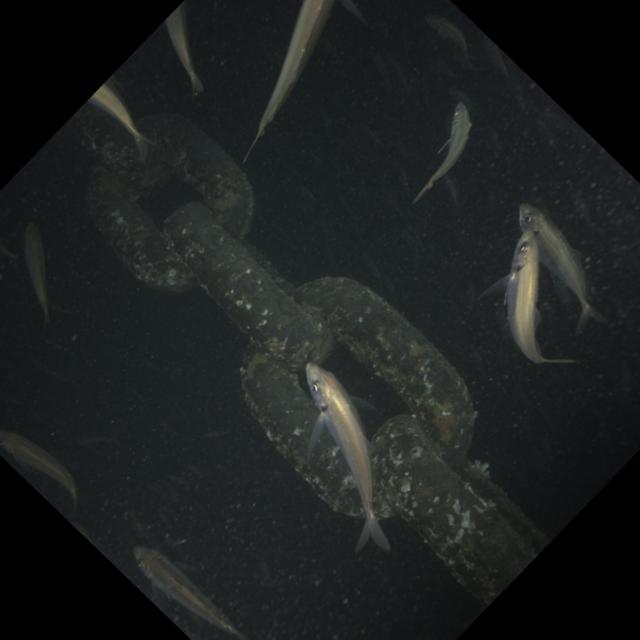ChainLink: (294, 277, 475, 463), (372, 415, 537, 607), (165, 203, 331, 369), (240, 345, 363, 516), (139, 114, 254, 239), (87, 167, 197, 293), (70, 103, 168, 196), (456, 460, 549, 555)
